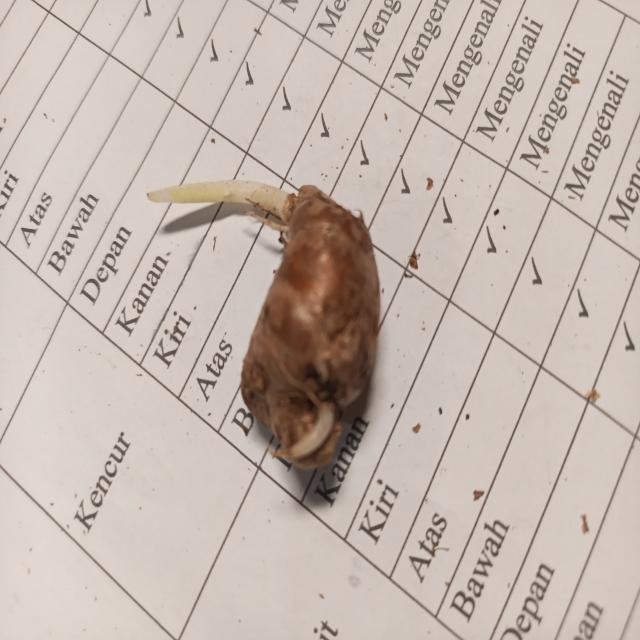ginger: (244, 178, 392, 474)
